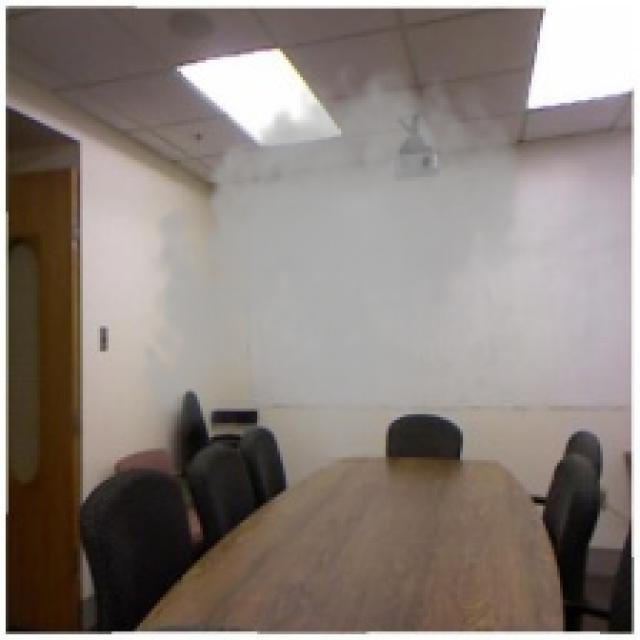Smoke: (128, 54, 532, 463)
